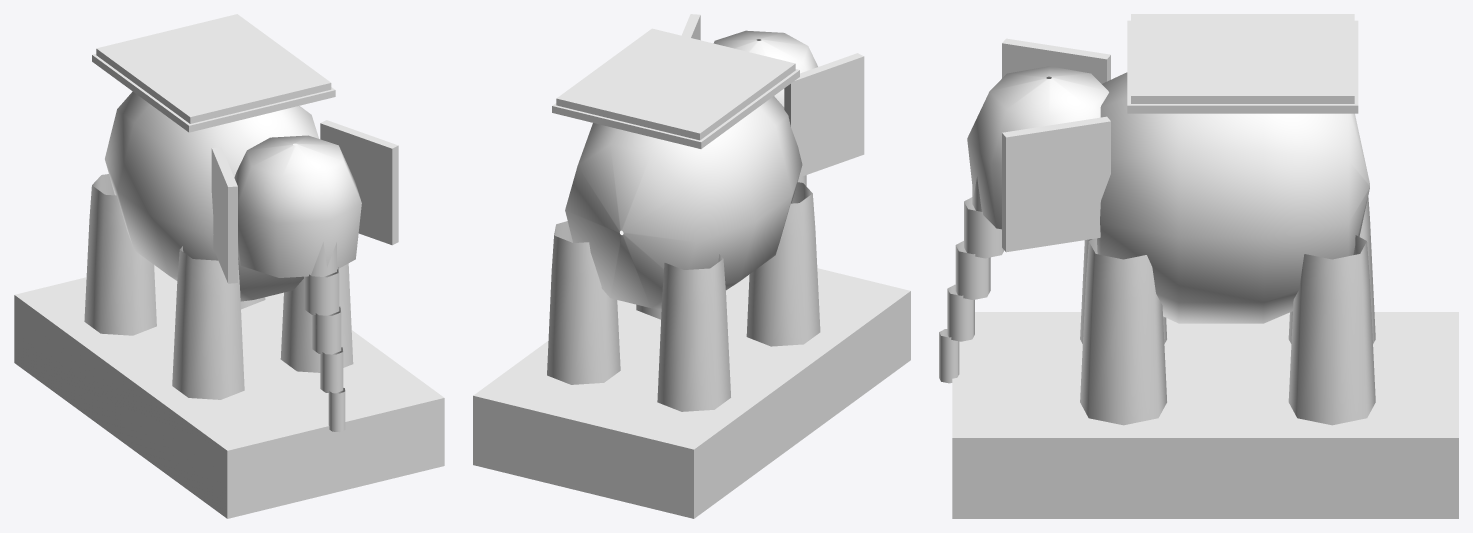
Rendered from elephant.glb.
3 views of the same model, side by side, from view 1: azimuth 30°, elevation 25°; view 2: azimuth 150°, elevation 25°; view 3: azimuth 270°, elevation 25° (orthographic). The views are drawn at different scales.
Parts seen in each view (by area): view 1: Elephant; view 2: Elephant; view 3: Elephant.
Boxes of the visible parts, x1,y1,x2,y2 form: Elephant: [14, 14, 444, 518]; Elephant: [473, 14, 910, 518]; Elephant: [939, 14, 1458, 518].
Size of the model in its own units: 2 by 2.97 by 3.49.
1 material, 1 textured.
